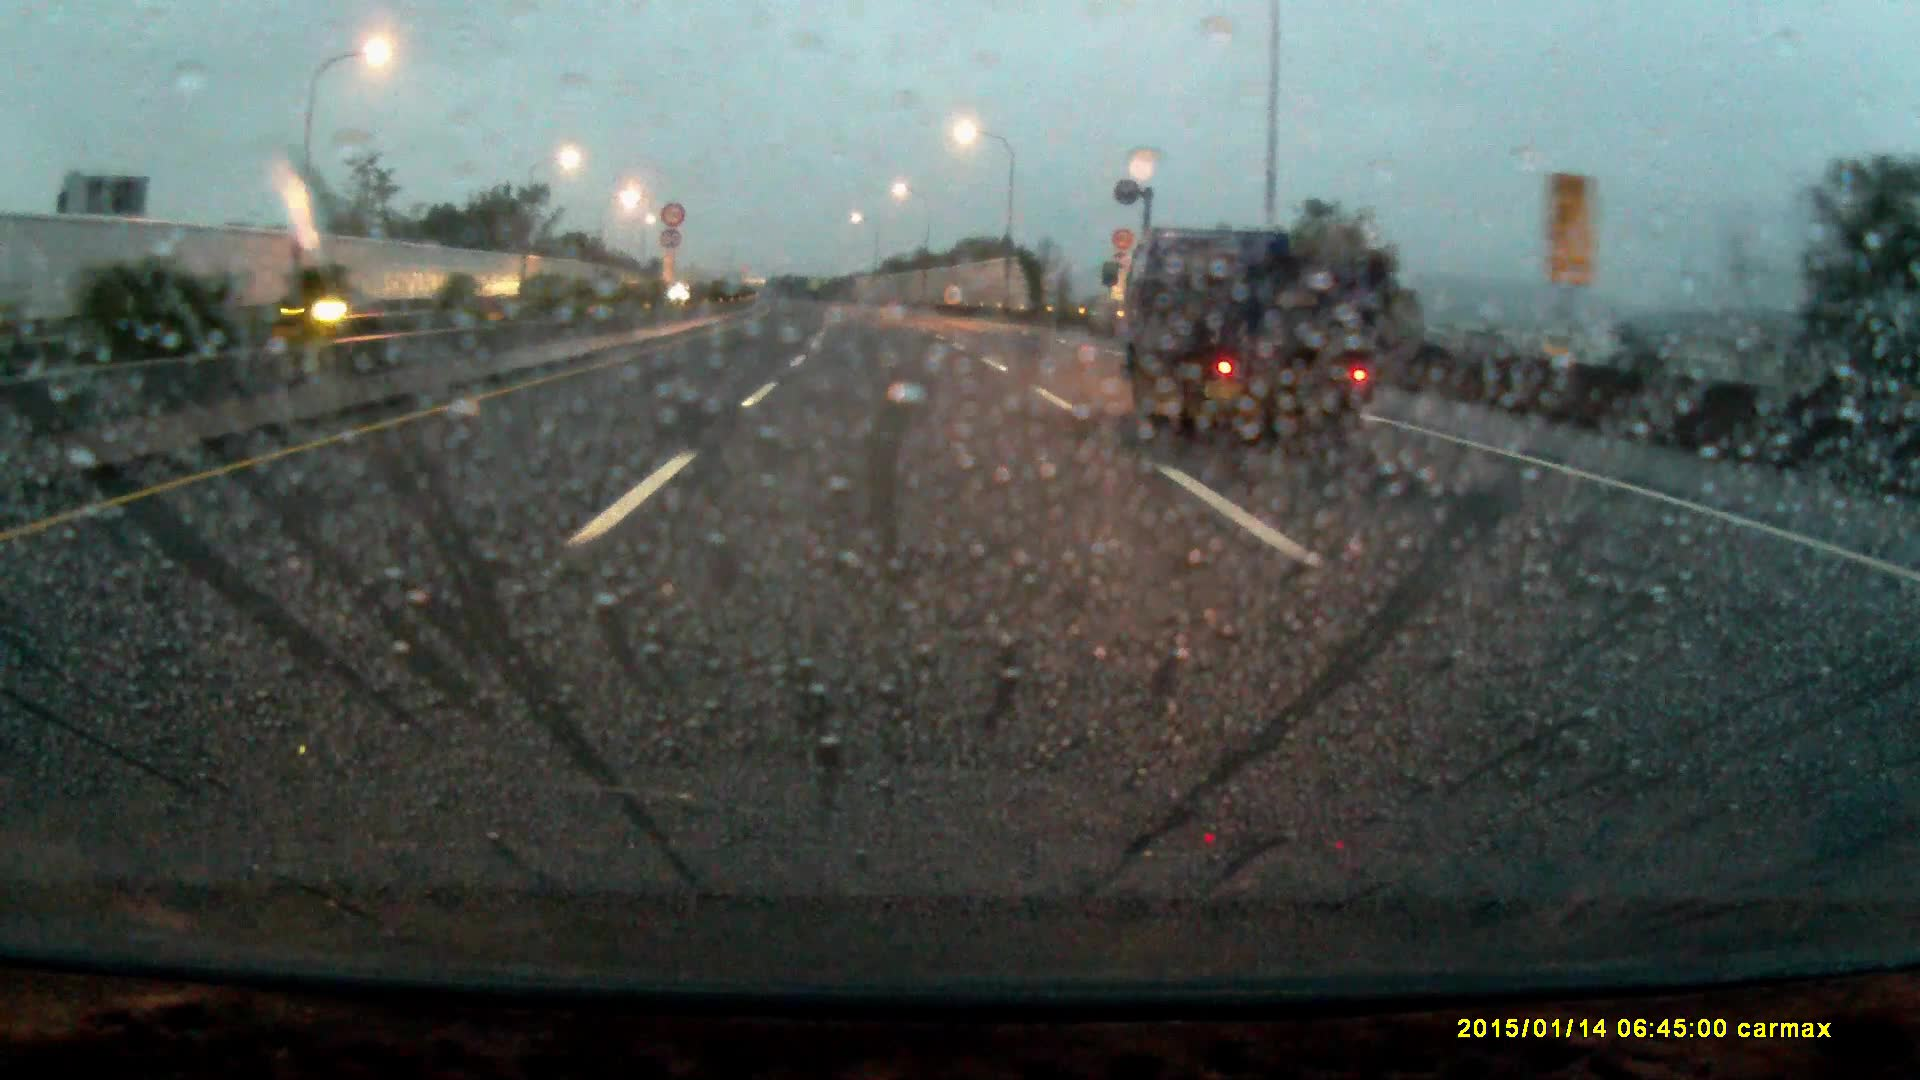vehicle: (1127, 229, 1383, 477), (266, 290, 367, 332)
